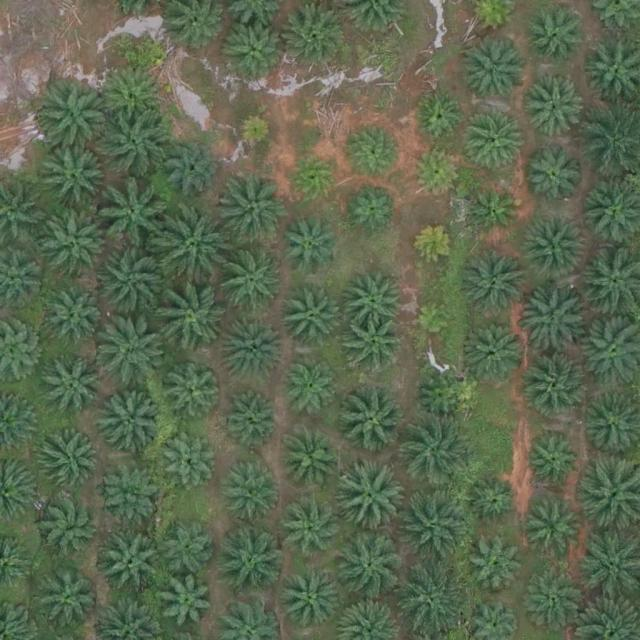Healthy: (521, 287, 592, 358), (337, 385, 408, 456), (460, 246, 530, 317), (404, 416, 474, 487), (402, 492, 472, 563), (396, 566, 466, 637), (333, 464, 403, 535), (335, 531, 405, 602), (96, 320, 166, 391), (279, 2, 349, 73), (157, 214, 228, 284), (39, 84, 110, 154), (41, 202, 111, 273), (155, 282, 225, 352), (97, 247, 167, 317), (218, 174, 288, 244), (99, 182, 169, 252), (102, 109, 172, 179), (282, 501, 345, 564), (222, 250, 285, 313), (220, 458, 283, 521), (100, 393, 163, 456), (39, 494, 102, 557), (525, 3, 588, 66), (525, 72, 588, 135), (44, 149, 107, 212), (522, 217, 584, 280), (530, 356, 592, 419), (468, 319, 530, 382), (343, 269, 405, 332), (277, 215, 339, 278), (281, 288, 343, 351), (281, 428, 343, 491), (280, 570, 342, 633), (220, 533, 282, 596), (163, 358, 225, 421), (98, 462, 160, 525), (103, 536, 165, 599), (41, 356, 103, 419), (36, 431, 98, 494), (521, 149, 583, 212), (462, 42, 524, 105), (461, 109, 523, 172), (102, 65, 164, 128), (220, 322, 282, 384), (226, 21, 288, 83), (527, 435, 582, 491), (527, 573, 582, 628), (470, 542, 525, 597), (416, 373, 471, 428), (349, 319, 404, 374), (283, 364, 338, 419), (224, 391, 279, 446), (48, 291, 103, 346), (348, 124, 403, 179), (348, 182, 403, 237), (409, 144, 464, 199), (414, 89, 469, 144), (467, 182, 522, 237), (169, 140, 224, 195), (530, 508, 584, 563), (467, 478, 521, 533), (162, 434, 216, 489), (162, 522, 216, 577), (160, 577, 214, 632), (42, 574, 96, 629), (286, 151, 340, 206)
Yellow: (412, 220, 459, 268), (234, 113, 274, 153), (416, 301, 455, 340)
